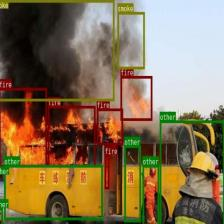fire: (0, 88, 46, 166), (47, 105, 95, 167), (120, 76, 152, 120), (96, 109, 122, 145), (105, 154, 109, 188)
smoke: (0, 0, 114, 101), (117, 12, 144, 68)
